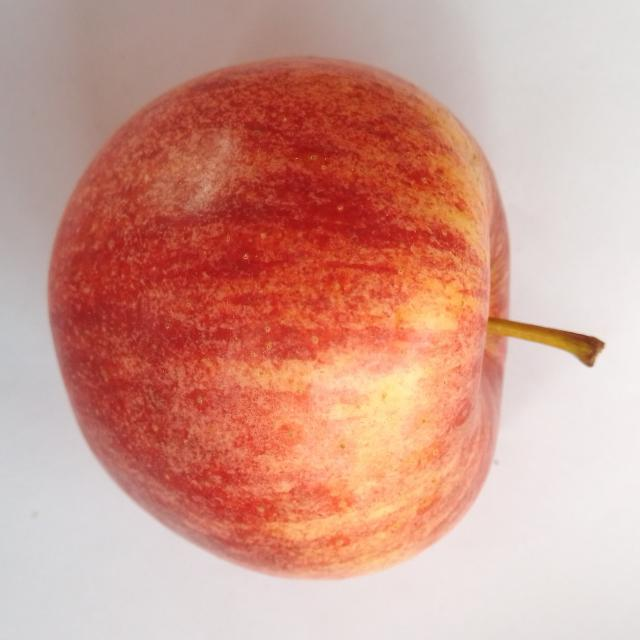Fresh Apple: (45, 45, 527, 583)
